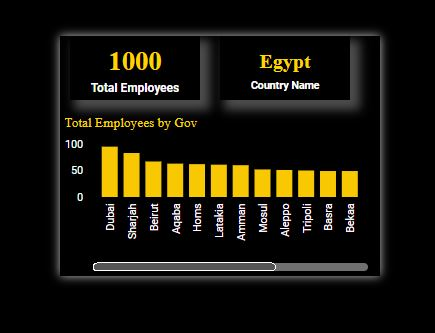

The page's visual inventory and layout, read from the dashboard file:
{"tool":"powerbi","page":{"name":"Gov","canvas":[320,240],"ordinal":3},"visuals":[{"type":"columnChart","fields":{"Category":["HR Data.Gov"],"Y":["#Measures.Total Employees"]},"box":[0,79,313,161],"z":0},{"type":"card","fields":{"Values":["#Measures.Total Employees"]},"box":[10,0,130,64],"z":1000},{"type":"card","fields":{"Values":["Min(HR Data.Country)"]},"box":[160,0,130,64],"z":2000}]}

Visuals, with their boxes in screenshot pixels (x1, y1, x2, y2), scaled from the page's 320x240 canvas onto the 435x333 screenshot:
columnChart - HR Data.Gov x #Measures.Total Employees: BBox(0, 110, 425, 332)
card - #Measures.Total Employees: BBox(14, 0, 190, 89)
card - Min(HR Data.Country): BBox(218, 0, 394, 89)
